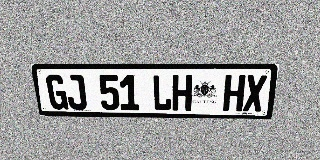1: (118, 75, 139, 110)
5: (99, 75, 120, 110)
G: (45, 75, 69, 110)
H: (223, 75, 246, 111), (172, 75, 192, 111)
J: (64, 75, 87, 110)
L: (152, 75, 172, 111)
X: (243, 75, 267, 112)
